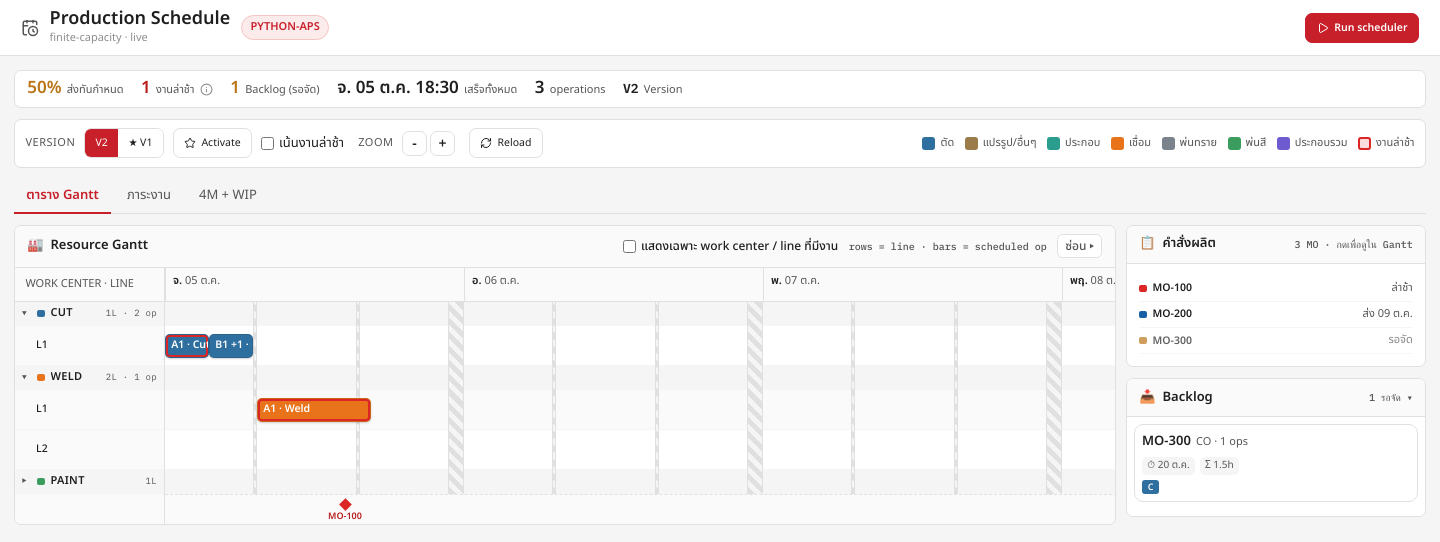
ProductionSchedule › after a run, keeps the form open and lists WOs left out with their reasons
Click the button "Run scheduler".
click(1362, 28)  # box [1306,12,1419,42]
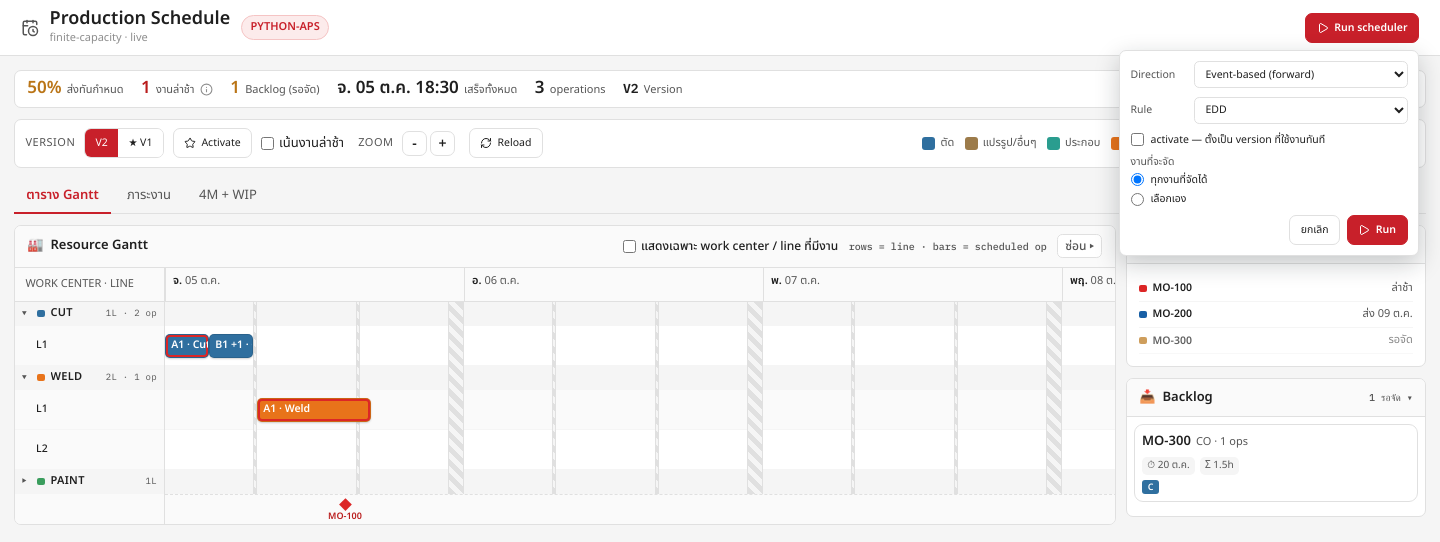
Click the button "Run".
click(1377, 230)  # box [1347,215,1408,245]
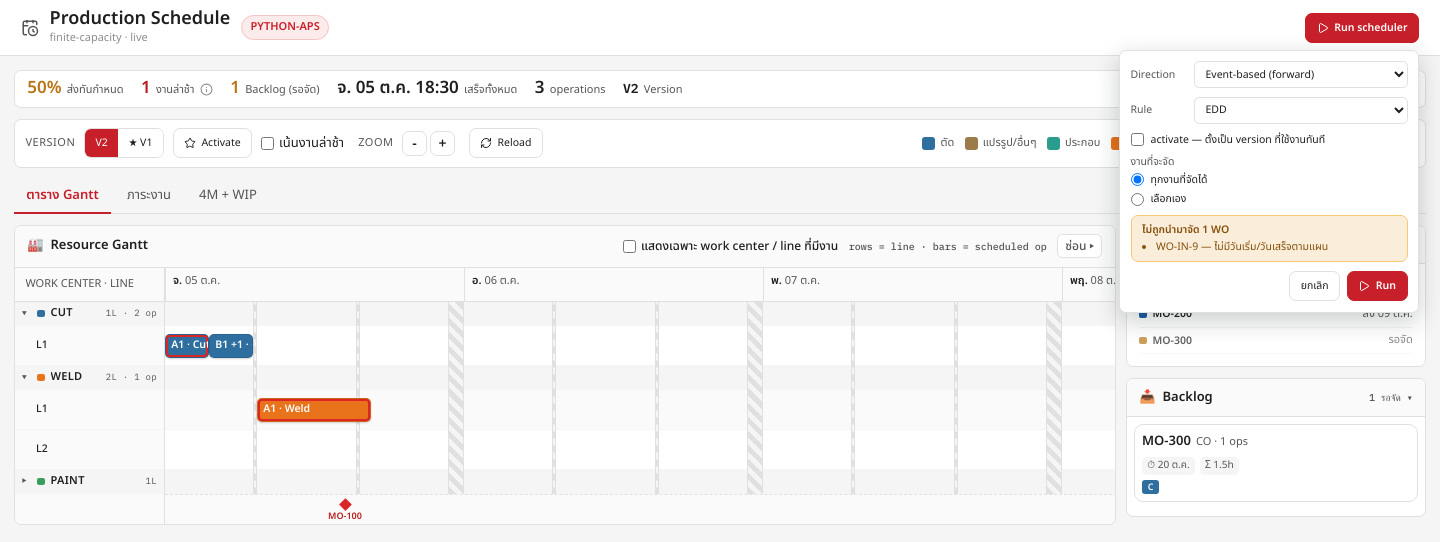
Check: the text "ไม่ถูกนำมาจัด 1 WO" is shown, box [1142,222,1229,238]
Check: the list item "WO-IN-9 — ไม่มีวันเริ่ม/วันเสร็จตามแผน" is shown, box [1156,239,1328,255]
